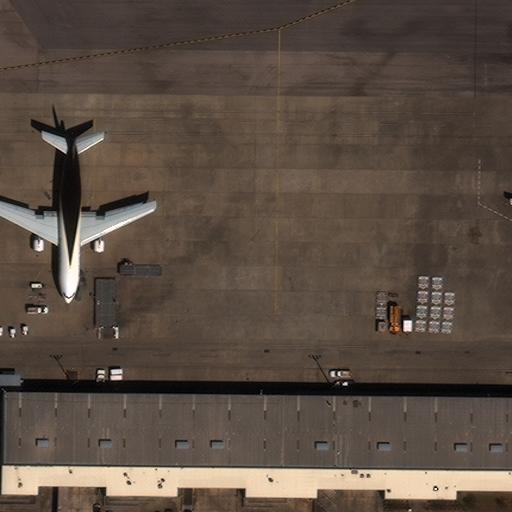Large Civil Transport: (0, 128, 156, 303)
